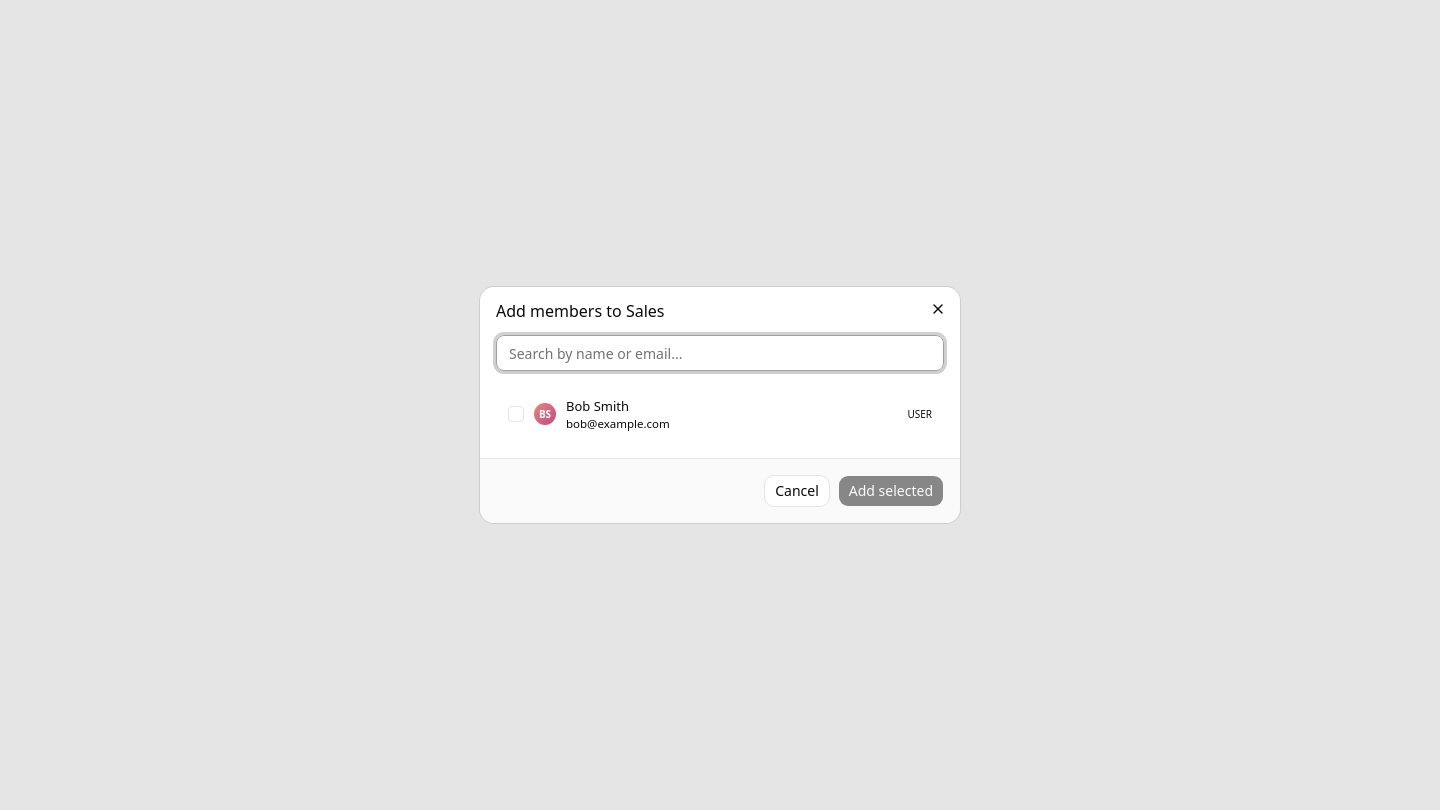
Scenario: AddMemberModal › enables and labels the Add button with the count of selected members
The image size is (1440, 810).
Click the checkbox: (516, 414) [508,406,524,422]
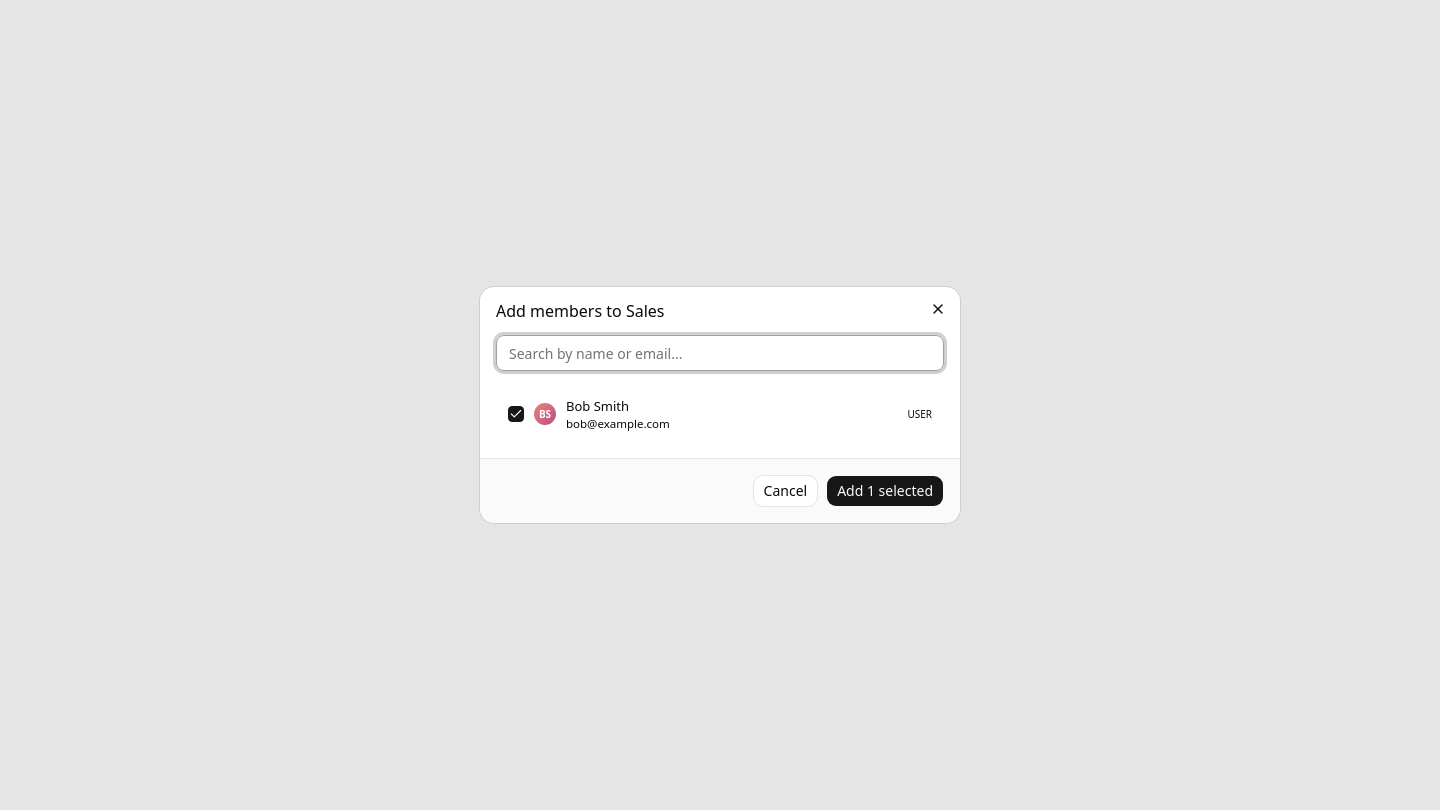
Expected: the button "Add 1 selected" is enabled, [826,475,944,507]
